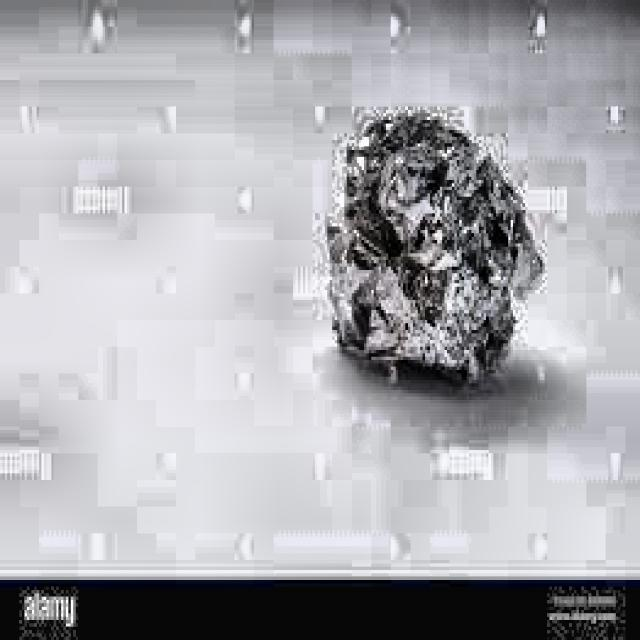Foil: (316, 98, 549, 394)
